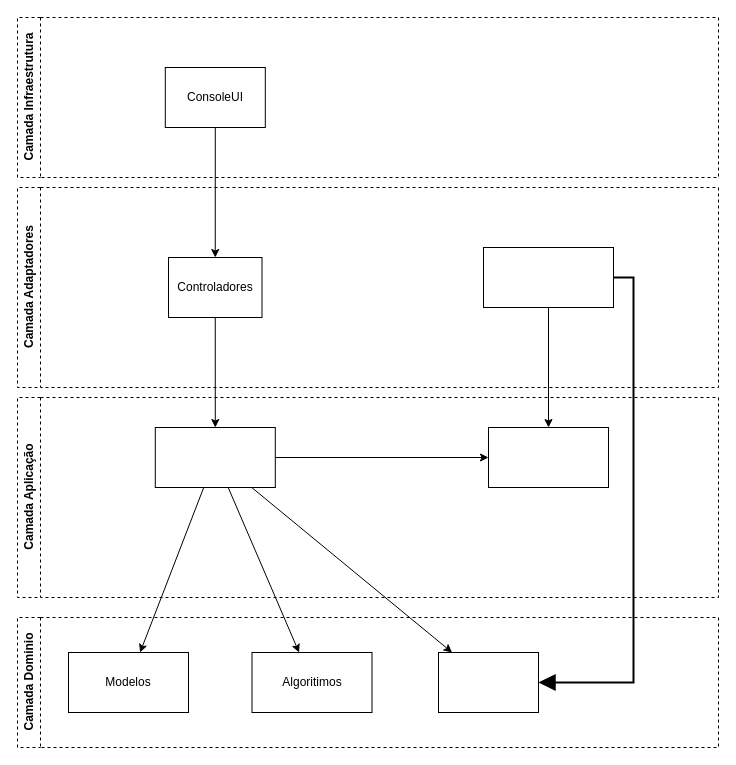
Image size: 736x765. Some labels were removed from this diagram. Each missing label, with the centre of its shape:
"Estruturas Dados" belongs at [488,682].
"Interface Repositorio" belongs at [548,457].
"Repositorios" belongs at [548,277].
"Servico" belongs at [214,457].
